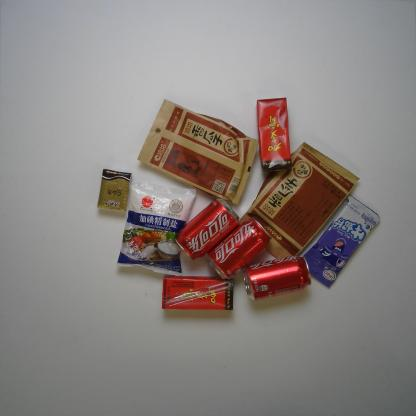Candy: (302, 193, 381, 290)
Dried Food: (241, 139, 362, 258), (132, 95, 261, 205)
Drink: (206, 217, 276, 283), (172, 196, 241, 262), (246, 252, 314, 304), (159, 273, 236, 314), (255, 94, 292, 174)
Seasoner: (117, 177, 199, 278)
Tissue: (91, 168, 135, 211)
